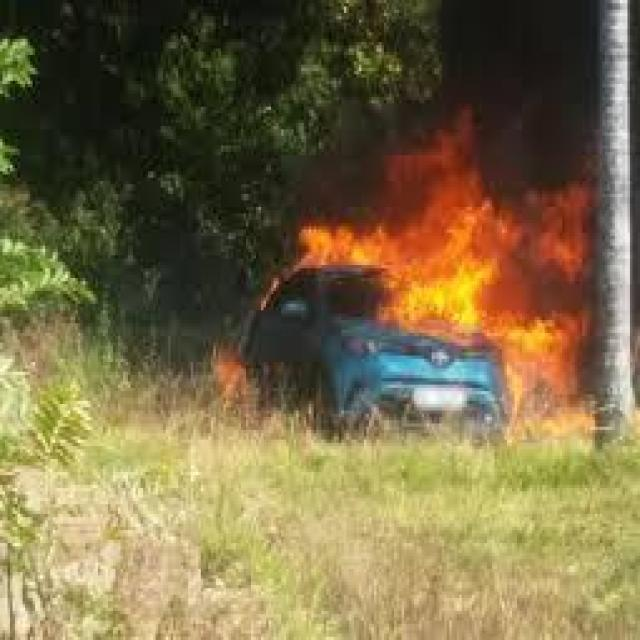fire: (274, 124, 582, 404)
